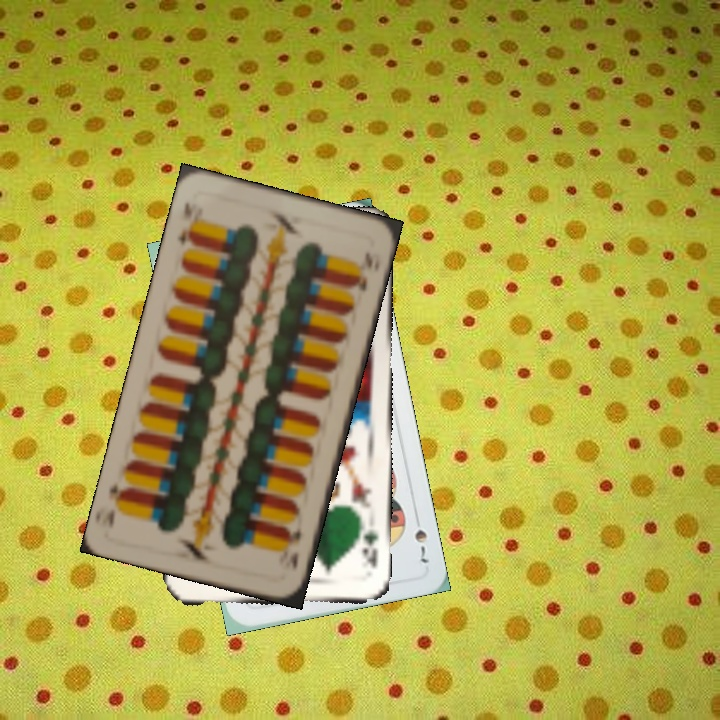E10: (173, 198, 199, 248), (284, 523, 304, 572)
GK: (358, 525, 381, 570)
S7: (410, 525, 432, 568)
